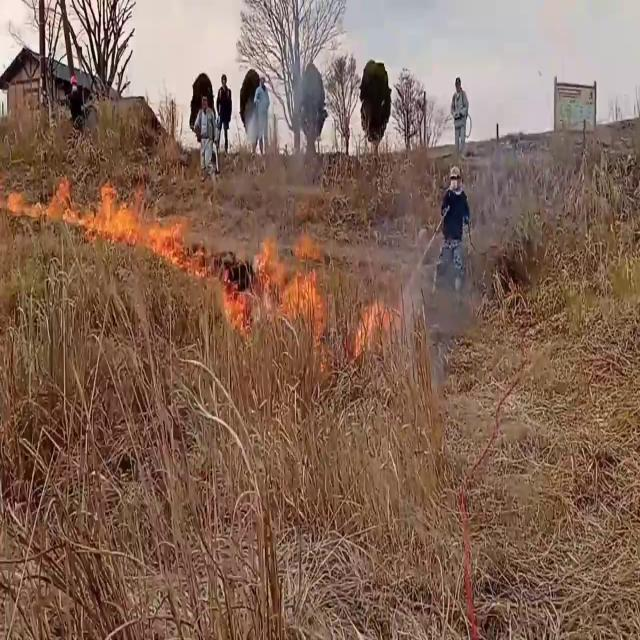Fire: (3, 177, 193, 270), (244, 218, 330, 316)
